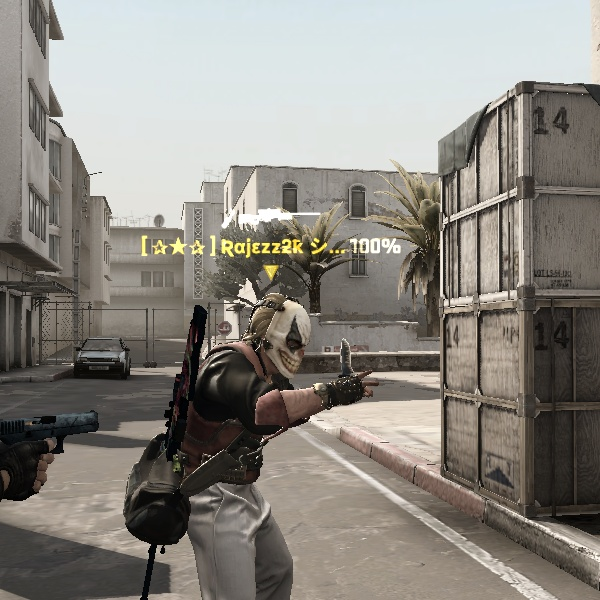t_body: (112, 294, 336, 599)
t_head: (249, 297, 319, 384)
